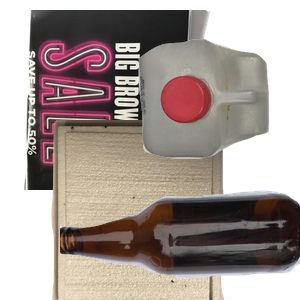glass: (60, 188, 300, 300)
paper: (22, 10, 225, 190)
plastic: (136, 37, 300, 188)
trash: (49, 120, 269, 300)
